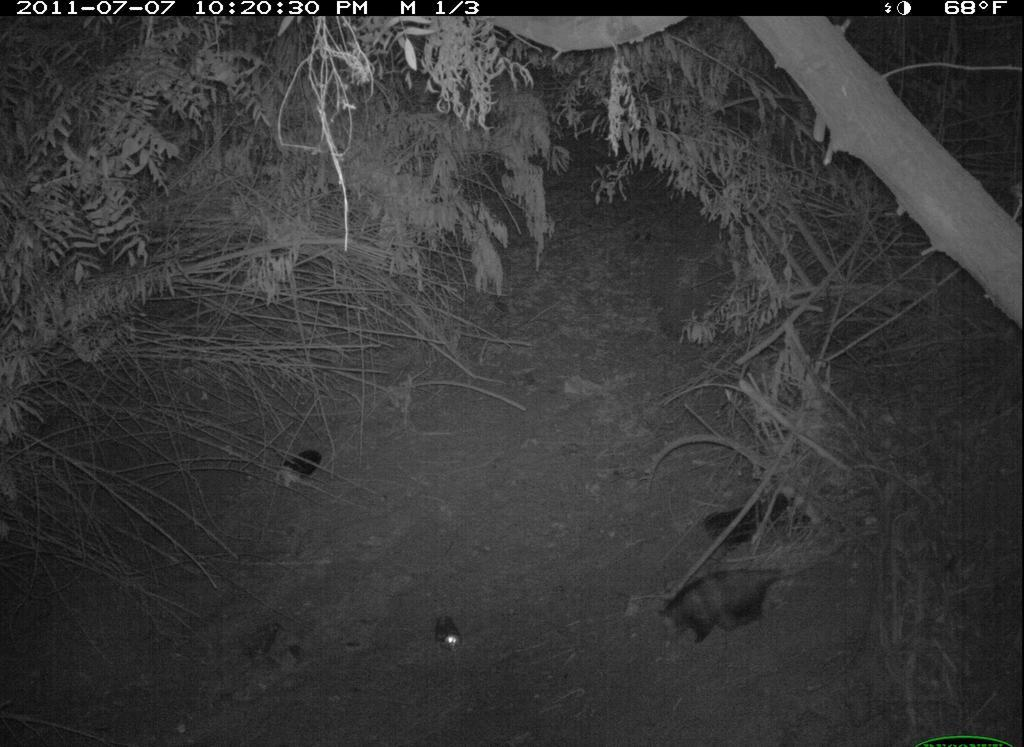opossum: (652, 551, 833, 658)
